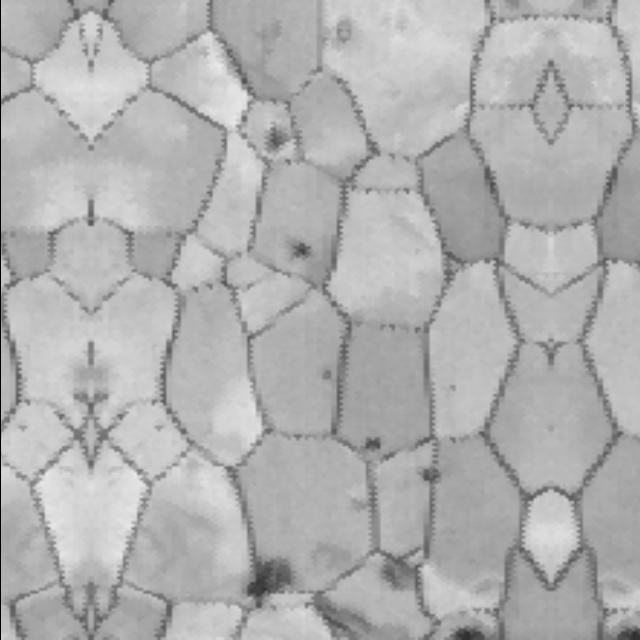good_void: (229, 542, 304, 622), (298, 586, 384, 640), (364, 557, 420, 600), (336, 482, 381, 529), (85, 354, 119, 408), (323, 11, 361, 54), (60, 354, 89, 407), (287, 242, 317, 267), (444, 624, 488, 640), (260, 127, 287, 151), (438, 374, 463, 398), (312, 363, 336, 387), (415, 464, 442, 484), (610, 624, 640, 640), (359, 438, 379, 452)
